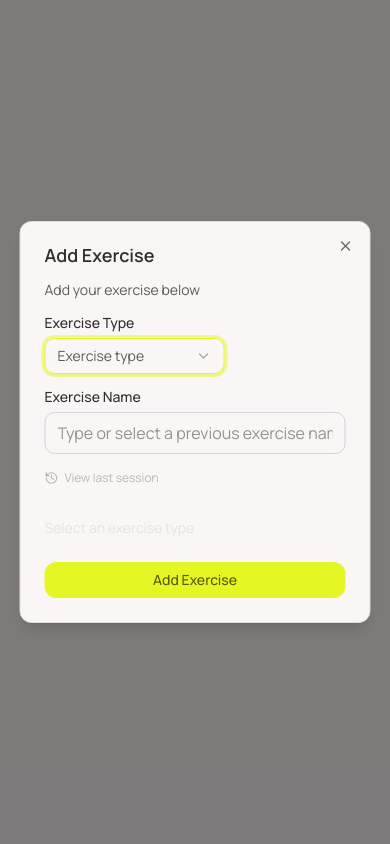
Scenario: AddExerciseModal › filters and displays previous exercise names in combobox
Click the field with placeholder "Type or select a previous exercise name...": (195,433) [44, 412, 346, 454]
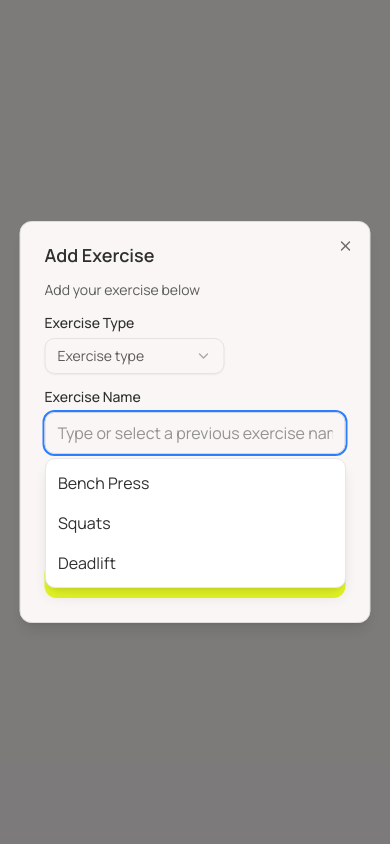
expect the button "Bench Press" is shown: met, box [46, 463, 345, 503]
expect the button "Squats" is shown: met, box [46, 503, 345, 543]
expect the button "Deadlift" is shown: met, box [46, 543, 345, 583]
